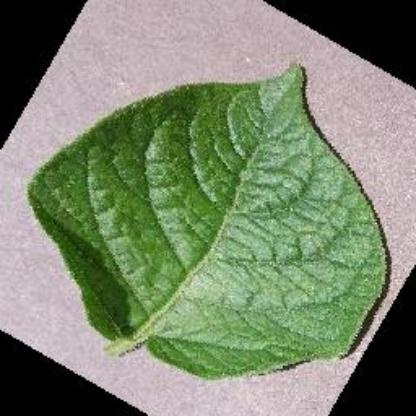Healthy-plant: (28, 60, 386, 382)
